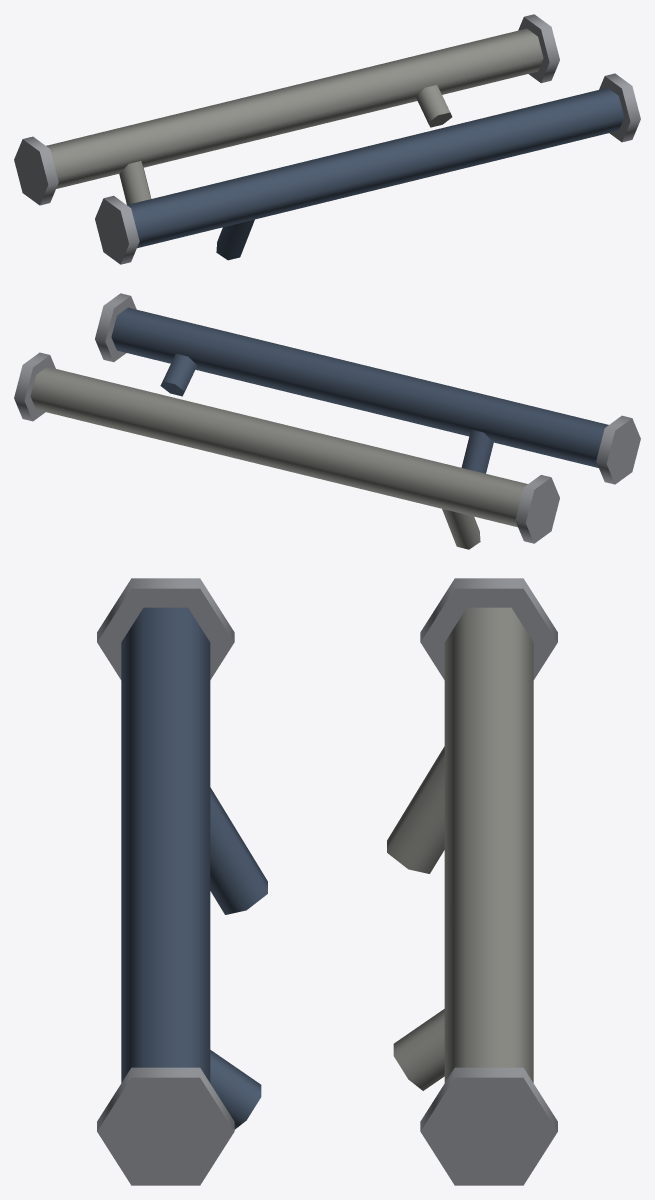
File: ko300_pipes.obj
The picture shows the model from 3 angles, top to bottom: view 1: azimuth 30°, elevation 25°; view 2: azimuth 150°, elevation 25°; view 3: azimuth 270°, elevation 25°; orthographic projection. The views are drawn at different scales.
Parts seen in each view (by area): view 1: ko300_pipes; view 2: ko300_pipes; view 3: ko300_pipes.
Part boxes in pixels (x1,y1,x2,y2): ko300_pipes: (14,14,640,264); ko300_pipes: (14,293,640,549); ko300_pipes: (97,578,557,1185).
Size of the model in its own units: 2.92 by 0.5385 by 1.14.
